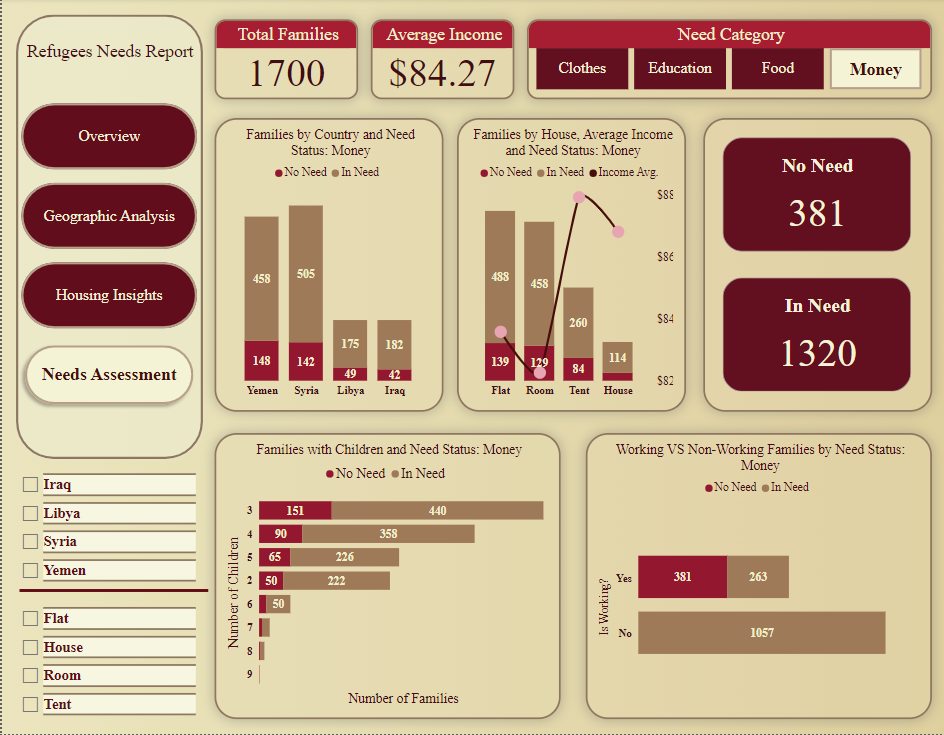

The page's visual inventory and layout, read from the dashboard file:
{"tool":"powerbi","page":{"name":"Needs Assessment","canvas":[1280,1000],"ordinal":3},"visuals":[{"type":"card","title":"Average Income","fields":{"Values":["Avg(Needs.Income)"]},"box":[501,28.9,195.3,108.7],"z":0},{"type":"card","title":"Total Families","fields":{"Values":["Count(Needs.Name)"]},"box":[288.7,28.9,195.3,108.7],"z":1000},{"type":"shape","box":[15.3,18.7,261.6,611.4],"z":2000},{"type":"columnChart","fields":{"Y":["Measures_.S_No","Measures_.S_Yes"],"Category":["Needs.Country"]},"box":[288.7,163,310.8,399.1],"z":3000},{"type":"lineStackedColumnComboChart","fields":{"Y":["Measures_.S_No","Measures_.S_Yes"],"Y2":["Avg(Needs.Income)"],"Category":["Needs.House"]},"box":[618,163,310.8,399.1],"z":4000},{"type":"cardVisual","title":"Working VS Non-Working (Families)","fields":{"Data":["Measures_.S_No","Measures_.S_Yes"]},"box":[952.8,163,310.8,399.1],"z":5000},{"type":"barChart","fields":{"Category":["Needs.Under 18 "],"Y":["Measures_.S_No","Measures_.S_Yes"]},"box":[288.7,591,470,388.9],"z":6000},{"type":"barChart","fields":{"Category":["Needs.Is Working?"],"Y":["Measures_.S_No","Measures_.S_Yes"]},"box":[793,591,470,388.9],"z":7000},{"type":"shape","box":[23.8,798,256.5,13.6],"z":8000},{"type":"textbox","box":[22.1,54.3,249.7,42.5],"z":9000},{"type":"pageNavigator","box":[22.1,118.9,248,443.3],"z":10000},{"type":"slicer","fields":{"Values":["Needs.Country"]},"box":[15.3,636.9,253.1,168.1],"z":11000},{"type":"slicer","fields":{"Values":["Needs.House"]},"box":[15,818,253,168],"z":12000},{"type":"advancedSlicerVisual","title":"Need Category","fields":{"Values":["Needs_Types.Values"]},"box":[713.3,28.9,550.3,108.7],"z":13000}]}

Visuals, with their boxes in screenshot pixels (x1, y1, x2, y2), scaled from the page's 1280x1000 canvas onto the 944x735 screenshot:
"Average Income" card: box(369, 21, 514, 101)
"Total Families" card: box(213, 21, 357, 101)
shape: box(11, 14, 204, 463)
columnChart - Measures_.S_No x Measures_.S_Yes: box(213, 120, 442, 413)
lineStackedColumnComboChart - Measures_.S_No x Measures_.S_Yes: box(456, 120, 685, 413)
"Working VS Non-Working (Families)" cardVisual: box(703, 120, 932, 413)
barChart - Needs.Under 18  x Measures_.S_No: box(213, 434, 560, 720)
barChart - Needs.Is Working? x Measures_.S_No: box(585, 434, 931, 720)
shape: box(18, 587, 207, 597)
textbox: box(16, 40, 200, 71)
pageNavigator: box(16, 87, 199, 413)
slicer - Needs.Country: box(11, 468, 198, 592)
slicer - Needs.House: box(11, 601, 198, 725)
"Need Category" advancedSlicerVisual: box(526, 21, 932, 101)
